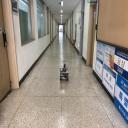cart: (60, 68, 69, 81)
